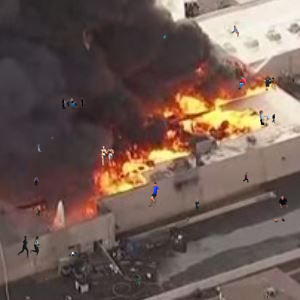Human: (17, 236, 40, 258), (100, 146, 124, 167), (264, 75, 295, 91), (148, 182, 159, 207), (224, 23, 239, 40), (62, 97, 83, 109), (235, 76, 253, 90), (259, 110, 275, 125), (31, 141, 42, 153), (279, 196, 288, 208), (132, 274, 141, 286), (118, 234, 125, 247), (160, 119, 169, 129), (194, 199, 200, 213), (272, 218, 286, 223), (243, 172, 249, 183), (69, 252, 80, 258), (34, 177, 39, 187), (36, 209, 40, 216), (264, 295, 268, 299), (119, 136, 122, 140), (51, 136, 54, 140), (45, 276, 48, 280), (187, 216, 189, 222), (163, 35, 166, 39), (151, 262, 156, 264), (149, 256, 152, 259)
